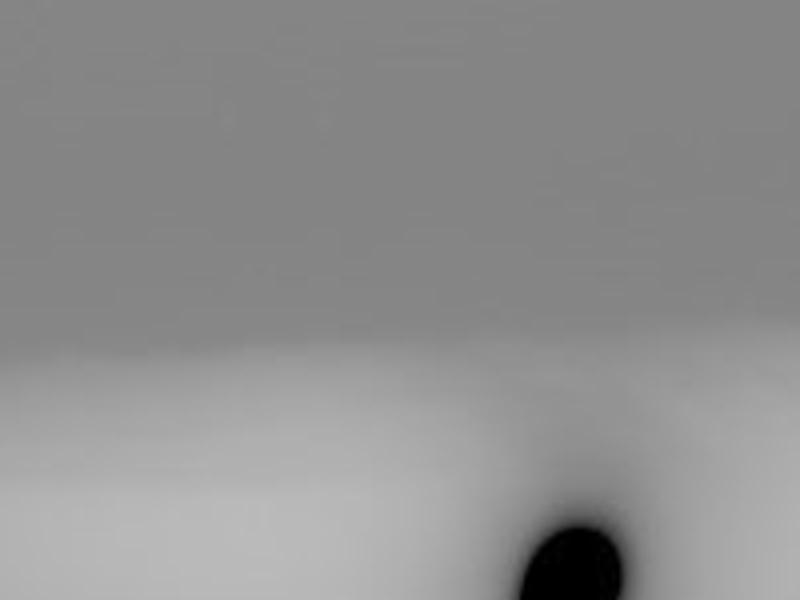defect: (516, 521, 624, 600)
